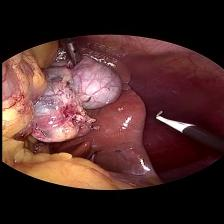Grasper: (60, 38, 85, 70)
Hook: (152, 108, 194, 134)
